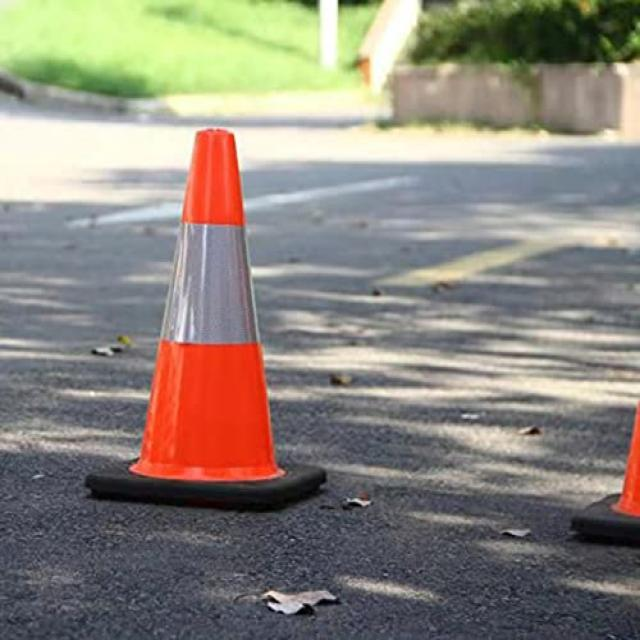cone: (71, 105, 337, 532)
